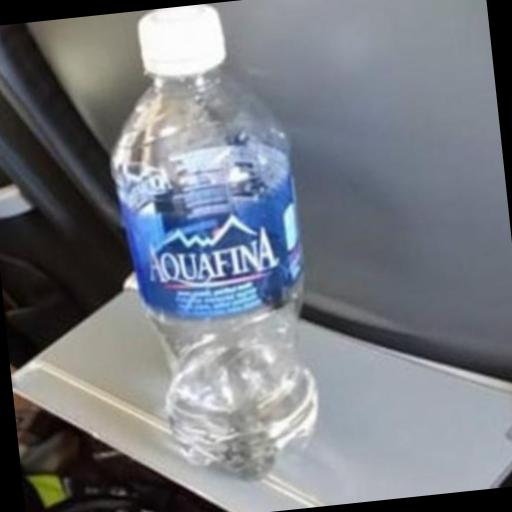Coca: (86, 0, 336, 503)
